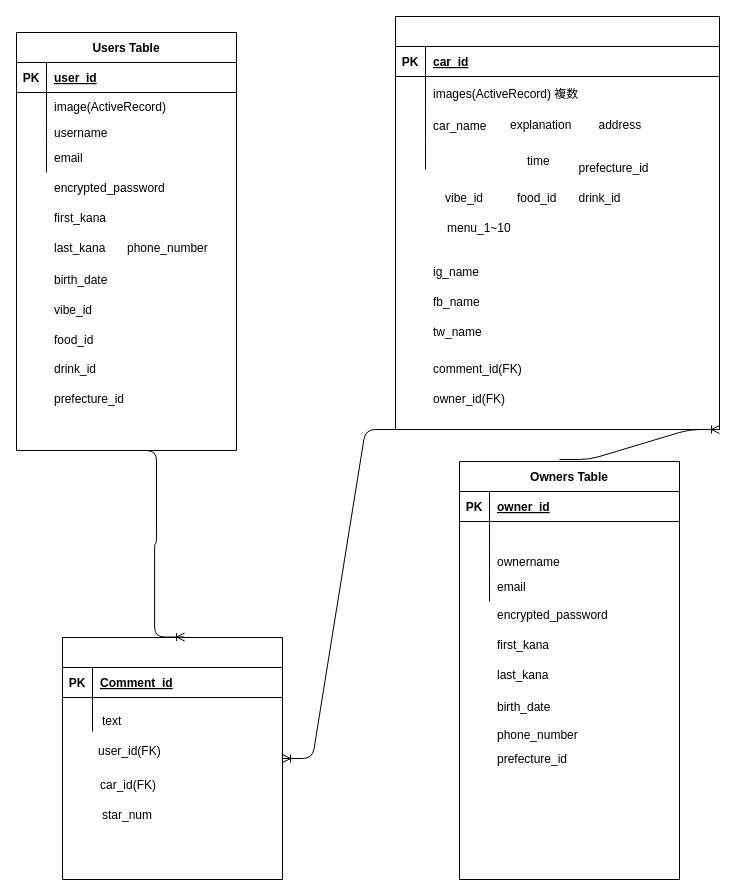
Image size: 736x896. Some labels were removed from this diagram. Here are the shapes that lost their labels. From the top down, the box of each, then its label:
(394, 16, 720, 430): Cars Table
(62, 636, 282, 880): Comments Table
